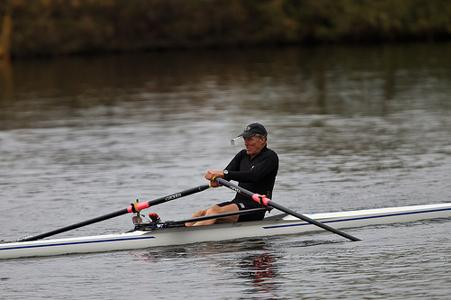person: (160, 124, 278, 231)
